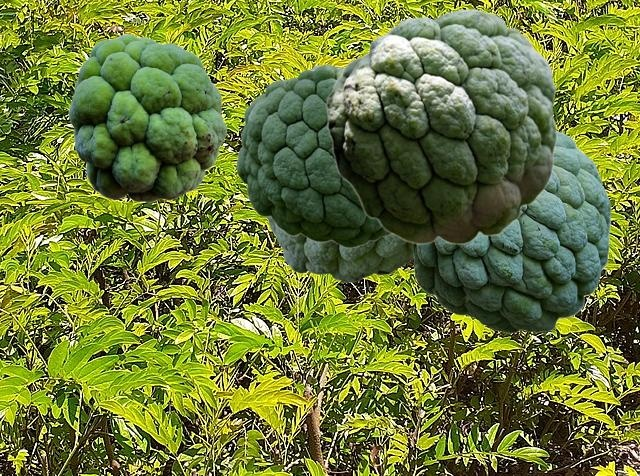atis: (325, 8, 557, 244), (412, 131, 610, 332), (267, 65, 412, 281), (236, 64, 390, 247), (68, 33, 226, 202)
